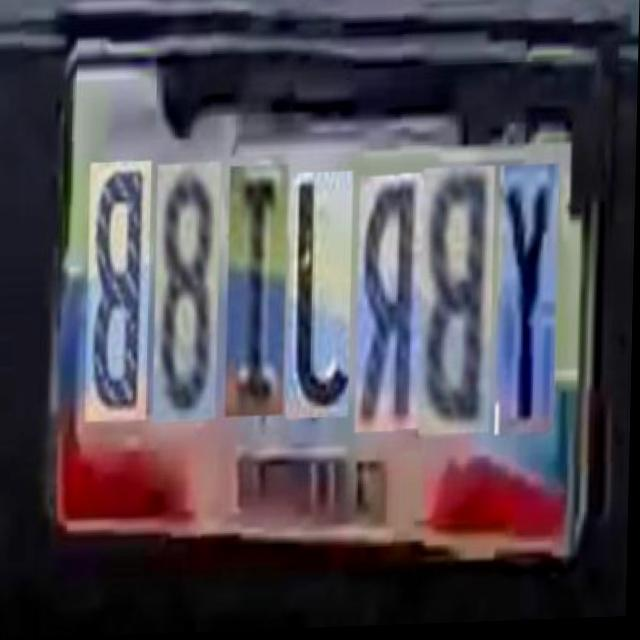8: (154, 161, 222, 421)
b: (420, 170, 496, 438), (87, 159, 153, 420)
i: (227, 165, 290, 418)
j: (286, 173, 354, 419)
r: (356, 176, 424, 434)
y: (497, 168, 560, 439)
